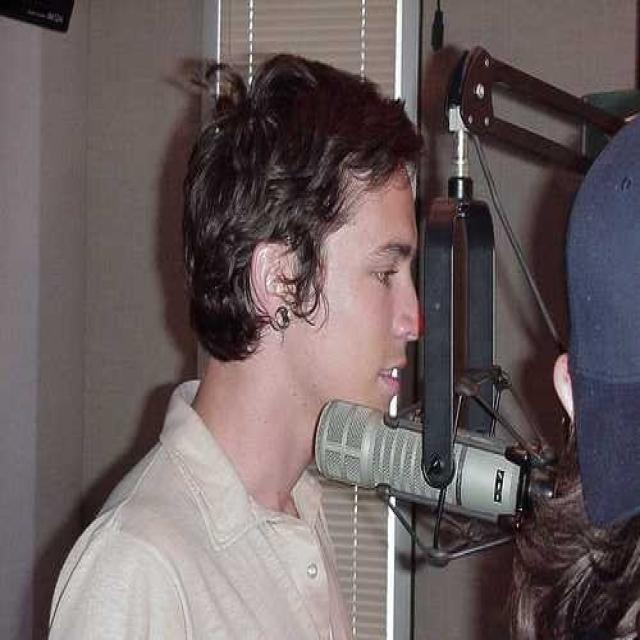microphone: (312, 395, 537, 524)
